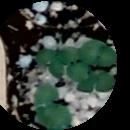Basil: (31, 89, 68, 127), (62, 43, 91, 87), (84, 39, 122, 71), (81, 73, 119, 96), (39, 53, 62, 81)
